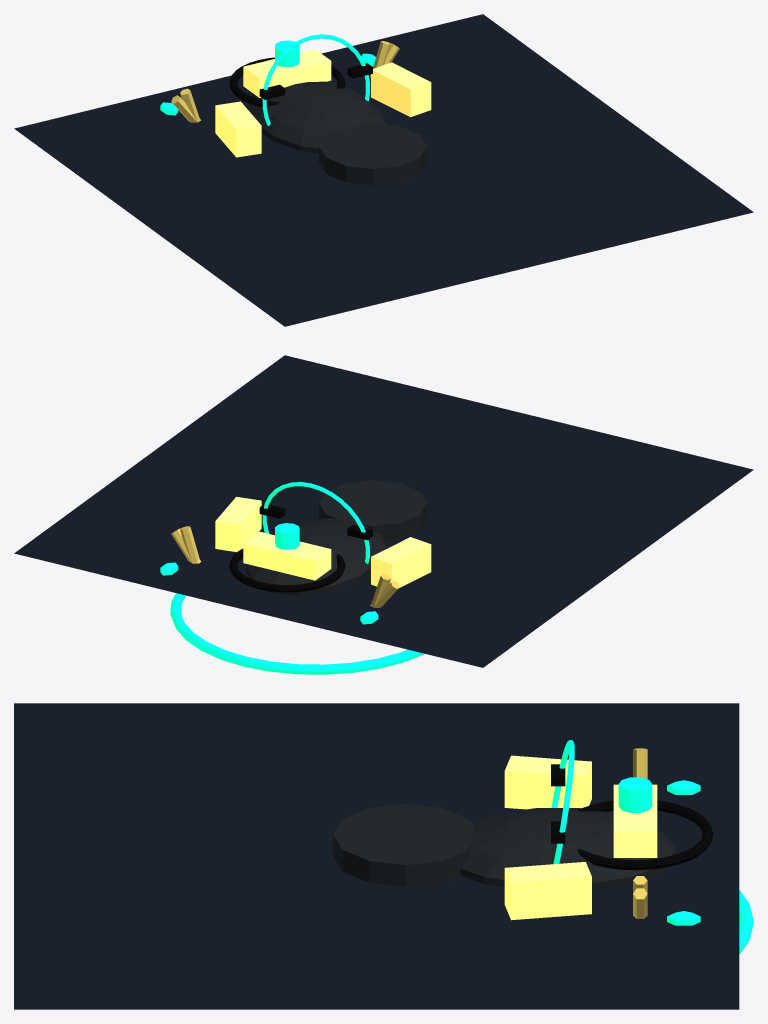
File: avatar_mnd_wa.glb
3 renders of one model, top to bottom at view 1: azimuth 30°, elevation 25°; view 2: azimuth 150°, elevation 25°; view 3: azimuth 270°, elevation 25°, orthographic. The views are drawn at different scales.
Visible parts, largest first — view 1: SOL, MASQUE, SOCLE, JOUE_D, FRONT, JOUE_G, LISERE, ANNEAU_KANJI; view 2: SOL, SOCLE, MASQUE, ANNEAU_MND, FRONT, JOUE_G, JOUE_D, ANNEAU_KANJI, LISERE, POINT_MND; view 3: SOL, SOCLE, MASQUE, JOUE_D, JOUE_G, ANNEAU_KANJI, FRONT, POINT_MND, LISERE, ANNEAU_MND.
Boxes of the visible parts, x1,y1,x2,y2 form: SOL: (14,14,753,326); MASQUE: (246,81,386,153); SOCLE: (319,123,427,185); JOUE_D: (371,62,431,117); FRONT: (243,49,331,97); JOUE_G: (215,101,261,157); LISERE: (262,34,369,125); ANNEAU_KANJI: (229,57,345,107); SOL: (14,355,753,667); SOCLE: (319,480,427,540); MASQUE: (246,518,386,595); ANNEAU_MND: (170,593,424,674); FRONT: (243,531,331,580); JOUE_G: (371,537,431,587); JOUE_D: (215,496,261,552); ANNEAU_KANJI: (229,548,345,592); LISERE: (262,482,369,563); POINT_MND: (275,523,299,549); SOL: (14,703,739,1009); SOCLE: (333,804,474,886); MASQUE: (460,808,675,890); JOUE_D: (504,862,591,920); JOUE_G: (504,755,591,809); ANNEAU_KANJI: (578,800,713,870); FRONT: (613,784,657,857); POINT_MND: (618,777,652,812); LISERE: (551,740,574,864); ANNEAU_MND: (739,890,753,954).
Size of the model in its own units: 6 by 1.65 by 6.12.
